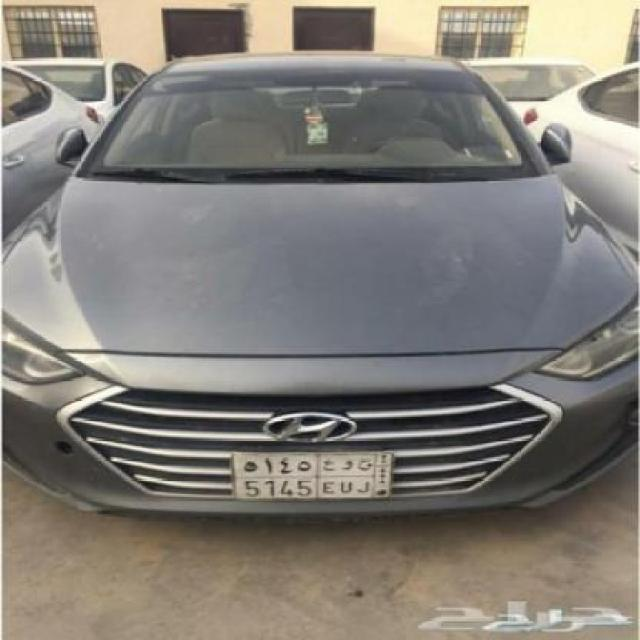license_plate: (230, 448, 396, 502)
